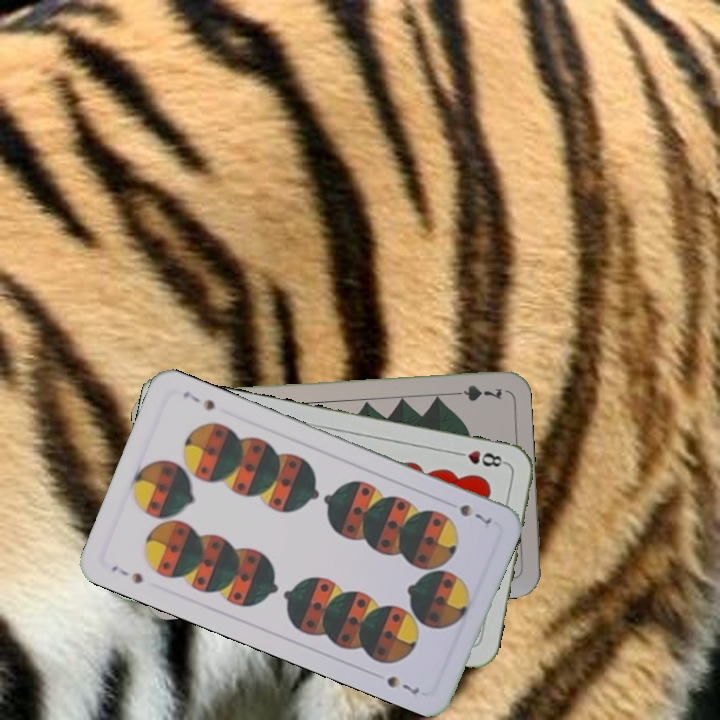G7: (445, 381, 505, 404)
H8: (450, 446, 509, 470)
S7: (455, 500, 494, 527), (107, 561, 146, 587)
